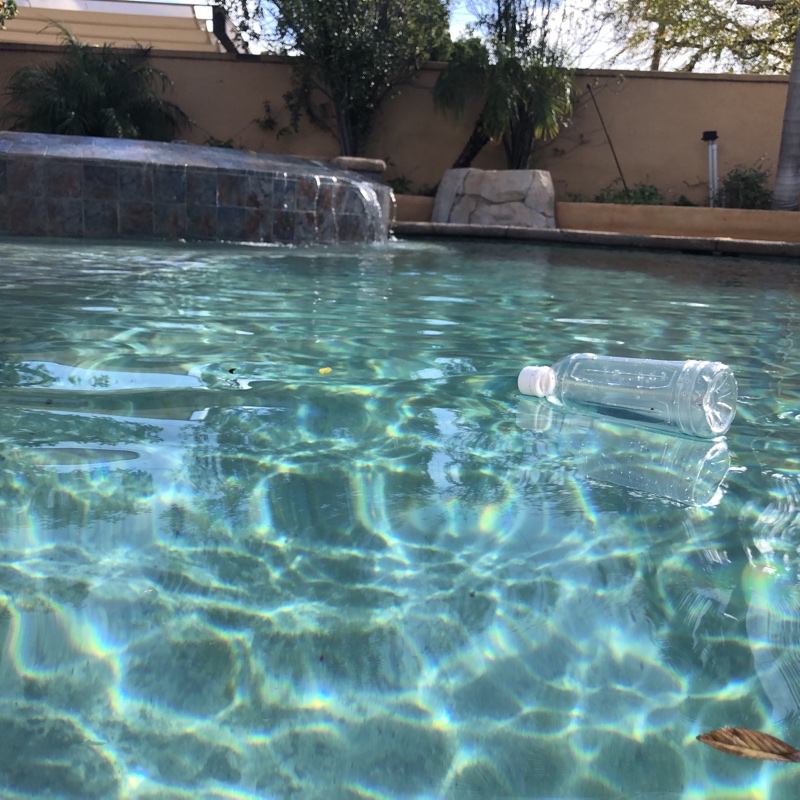Plastic Bottle: (513, 348, 741, 448)
